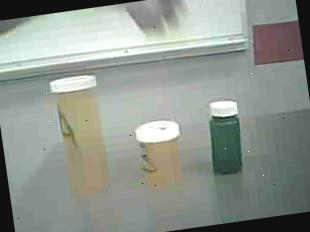Bottle A: (46, 64, 127, 205)
Bottle B: (130, 114, 193, 195)
Bottle C: (200, 94, 252, 182)
